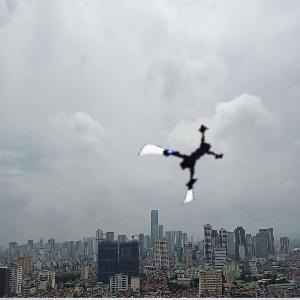drone: (147, 122, 231, 206)
